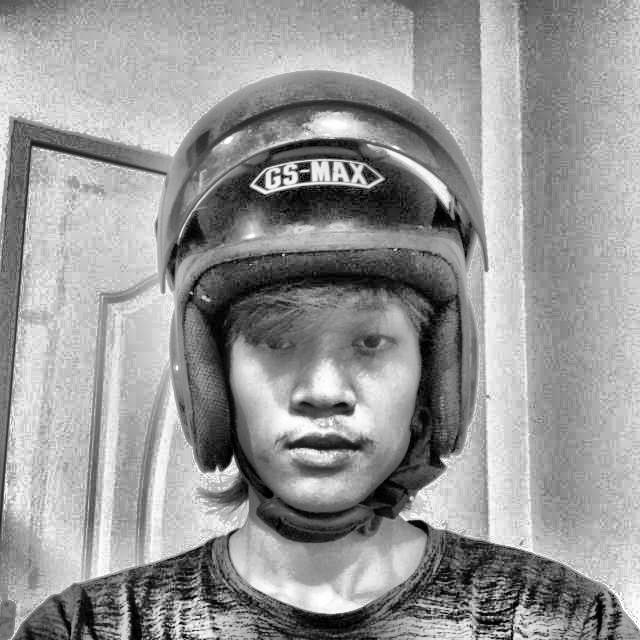Helmet: (148, 63, 497, 550)
